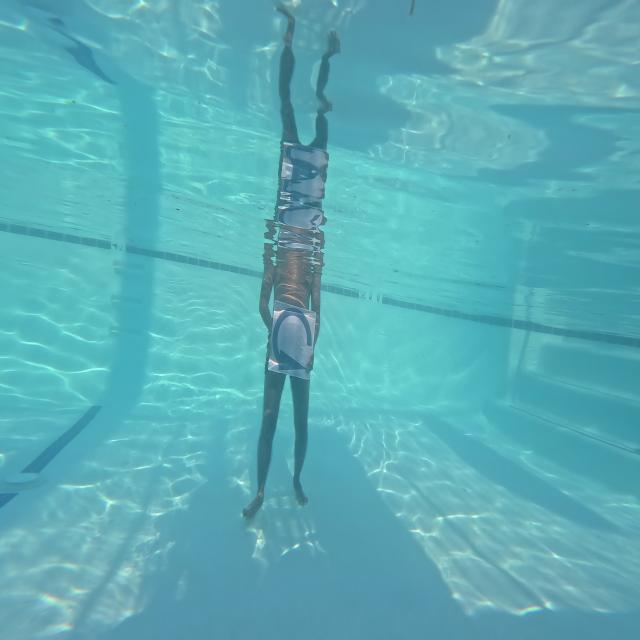blue_side: (267, 303, 316, 378)
